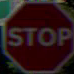Stop: (5, 13, 70, 58)
